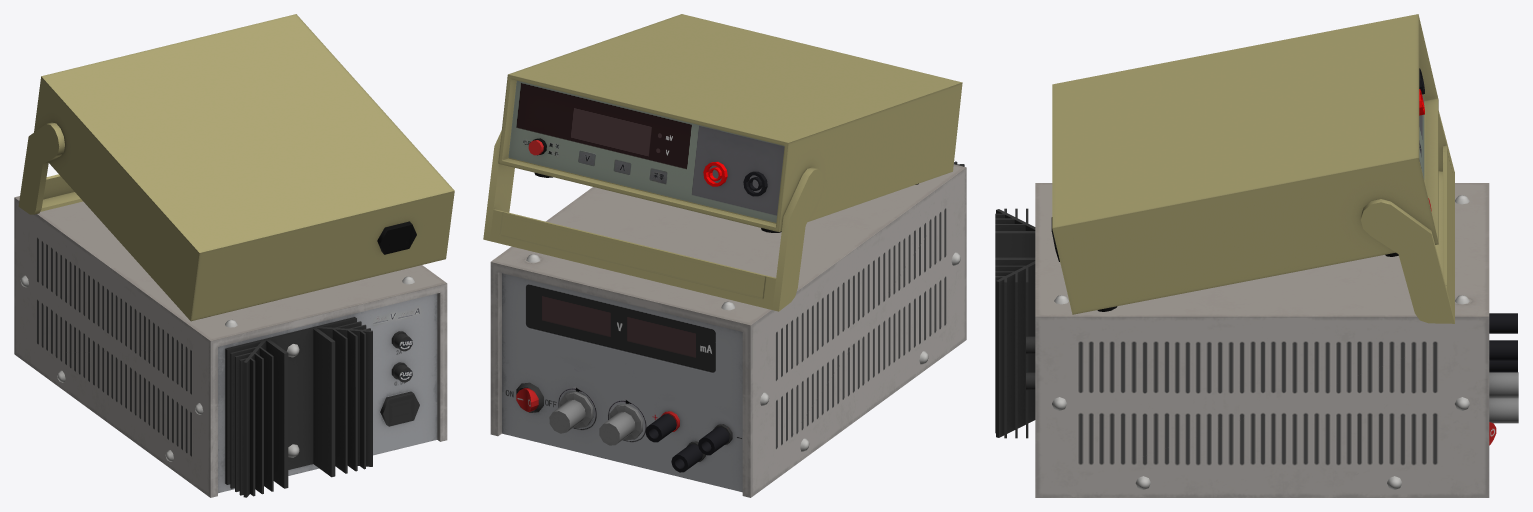
Rendered from dianyong.fbx.
The picture shows the model from 3 angles, left to right: view 1: azimuth 30°, elevation 25°; view 2: azimuth 150°, elevation 25°; view 3: azimuth 270°, elevation 25°; orthographic projection. The views are drawn at different scales.
Visible parts, largest first — view 1: dianyaceshiyi, gaoyadianyuan3; view 2: gaoyadianyuan3, dianyaceshiyi, gaoyadianyuan2, gaoyadianyuan, gaoyadianyuan5, gaoyadianyuan4; view 3: gaoyadianyuan3, dianyaceshiyi, gaoyadianyuan2, gaoyadianyuan, gaoyadianyuan4, gaoyadianyuan5.
Boxes of the visible parts, left/top/right/bottom form: dianyaceshiyi: left=18, top=14, right=454, bottom=321; gaoyadianyuan3: left=14, top=196, right=447, bottom=497; gaoyadianyuan3: left=490, top=161, right=966, bottom=497; dianyaceshiyi: left=483, top=14, right=962, bottom=311; gaoyadianyuan2: left=549, top=391, right=593, bottom=433; gaoyadianyuan: left=599, top=404, right=642, bottom=445; gaoyadianyuan5: left=698, top=427, right=729, bottom=455; gaoyadianyuan4: left=645, top=414, right=676, bottom=442; gaoyadianyuan3: left=995, top=183, right=1517, bottom=497; dianyaceshiyi: left=1051, top=14, right=1454, bottom=323; gaoyadianyuan2: left=1489, top=397, right=1518, bottom=423; gaoyadianyuan: left=1489, top=372, right=1518, bottom=397; gaoyadianyuan4: left=1489, top=340, right=1517, bottom=360; gaoyadianyuan5: left=1489, top=313, right=1517, bottom=333.
Bounding box in the file's own units: 26.12 × 27.97 × 38.08.
Materials: 3 (3 with a texture image).
